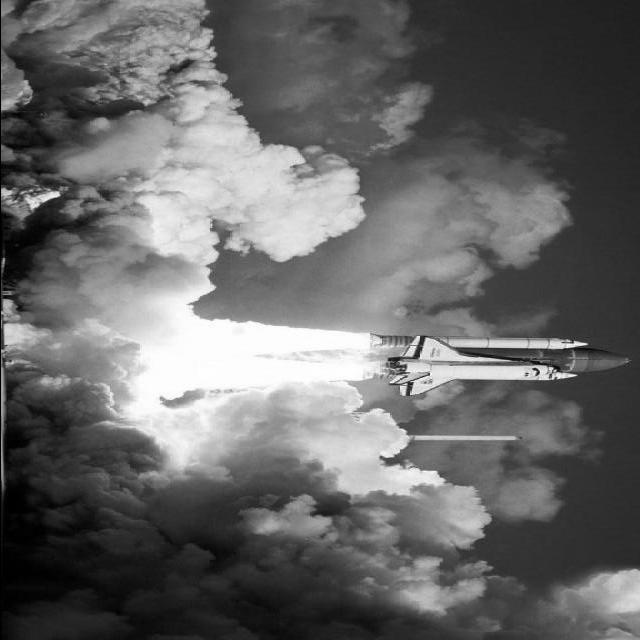missile: (366, 332, 592, 352), (405, 431, 531, 443)
